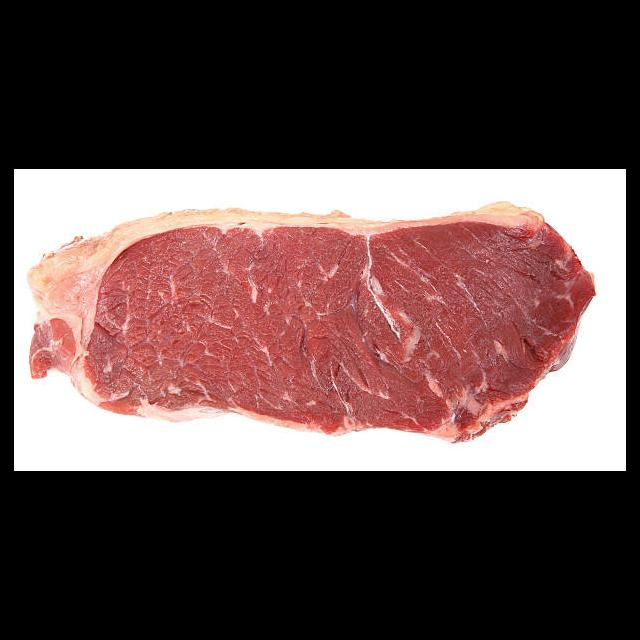beef: (27, 196, 597, 443)
